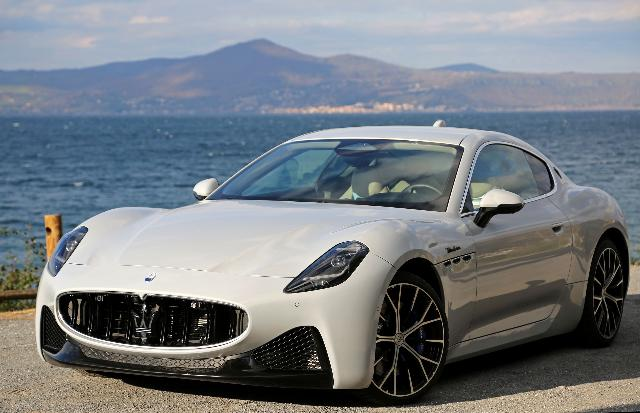maserati: (35, 120, 631, 402)
